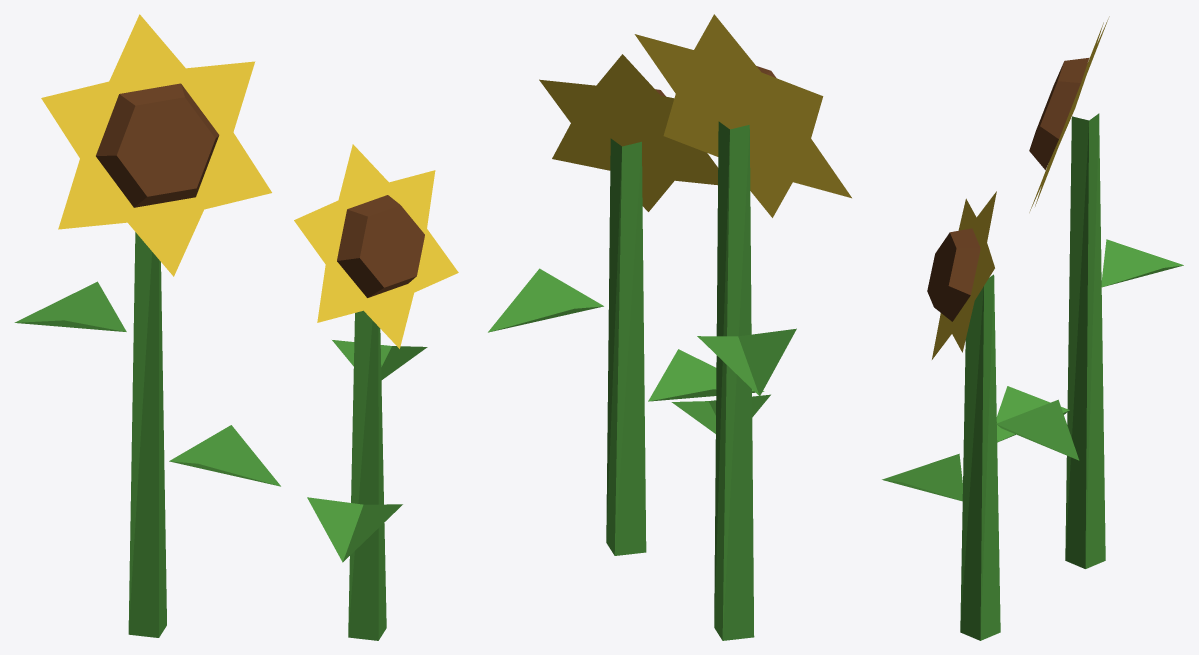
File: sunflower.glb
The picture shows the model from 3 angles, left to right: view 1: azimuth 30°, elevation 25°; view 2: azimuth 150°, elevation 25°; view 3: azimuth 270°, elevation 25°; orthographic projection. The views are drawn at different scales.
Parts seen in each view (by area): view 1: crop; view 2: crop; view 3: crop.
Boxes of the visible parts, x1,y1,x2,y2 form: crop: (14,14,458,640); crop: (488,14,851,640); crop: (882,16,1183,640).
Size of the model in its own units: 0.8962 by 1.5 by 0.7503.
